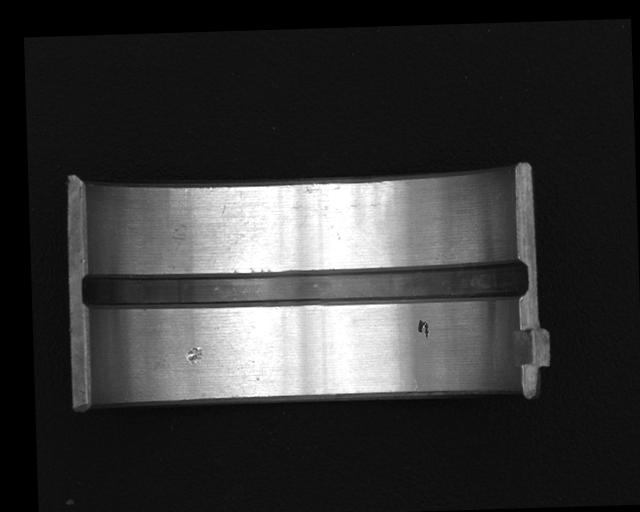blot: (417, 318, 430, 339)
bruise: (185, 345, 204, 365)
gap: (80, 259, 527, 315)
